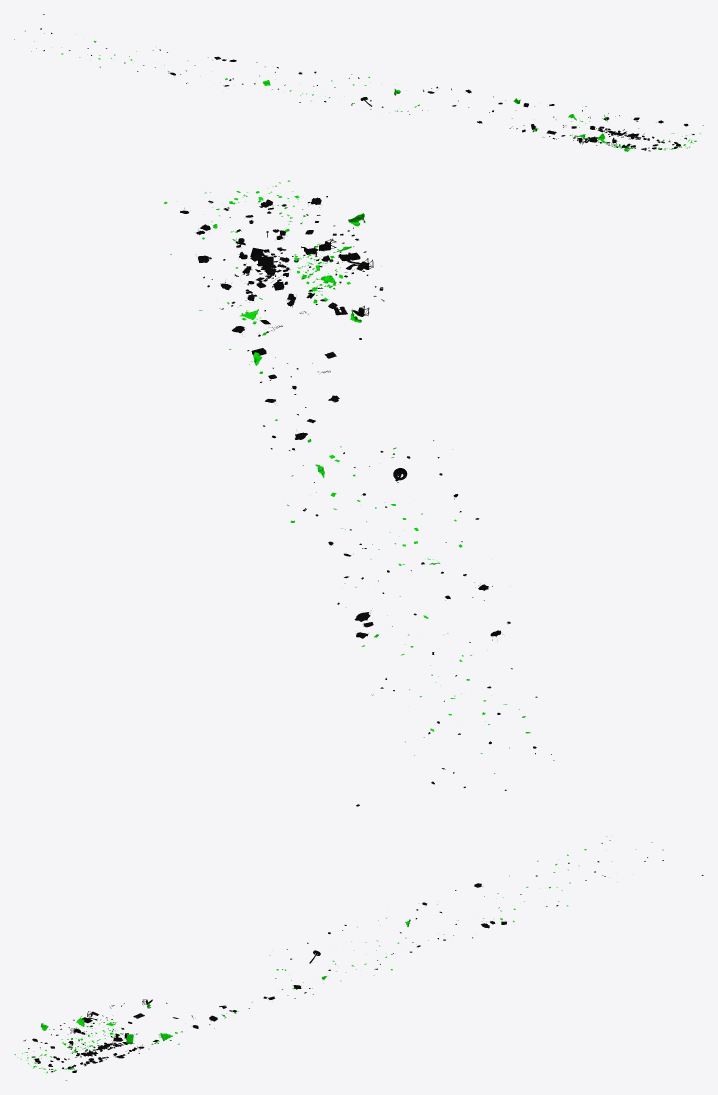
Rendered from debris.glb.
The picture shows the model from 3 angles, top to bottom: view 1: azimuth 30°, elevation 25°; view 2: azimuth 150°, elevation 25°; view 3: azimuth 270°, elevation 25°; orthographic projection. The views are drawn at different scales.
Visible parts, largest first — view 1: debris; view 2: debris; view 3: debris.
Part boxes in pixels (box(x1,y1,x2,y2)): debris: box(14, 14, 703, 151); debris: box(164, 180, 554, 806); debris: box(14, 836, 703, 1080).
Bounding box in the file's own units: 55.91 × 2.94 × 67.77.
